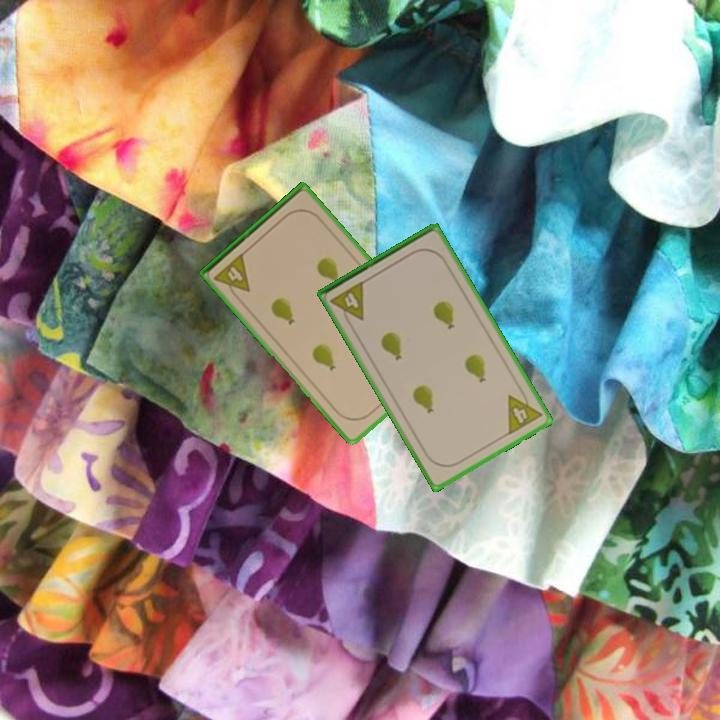4p: (210, 249, 253, 302), (504, 385, 545, 438), (327, 277, 367, 329)
